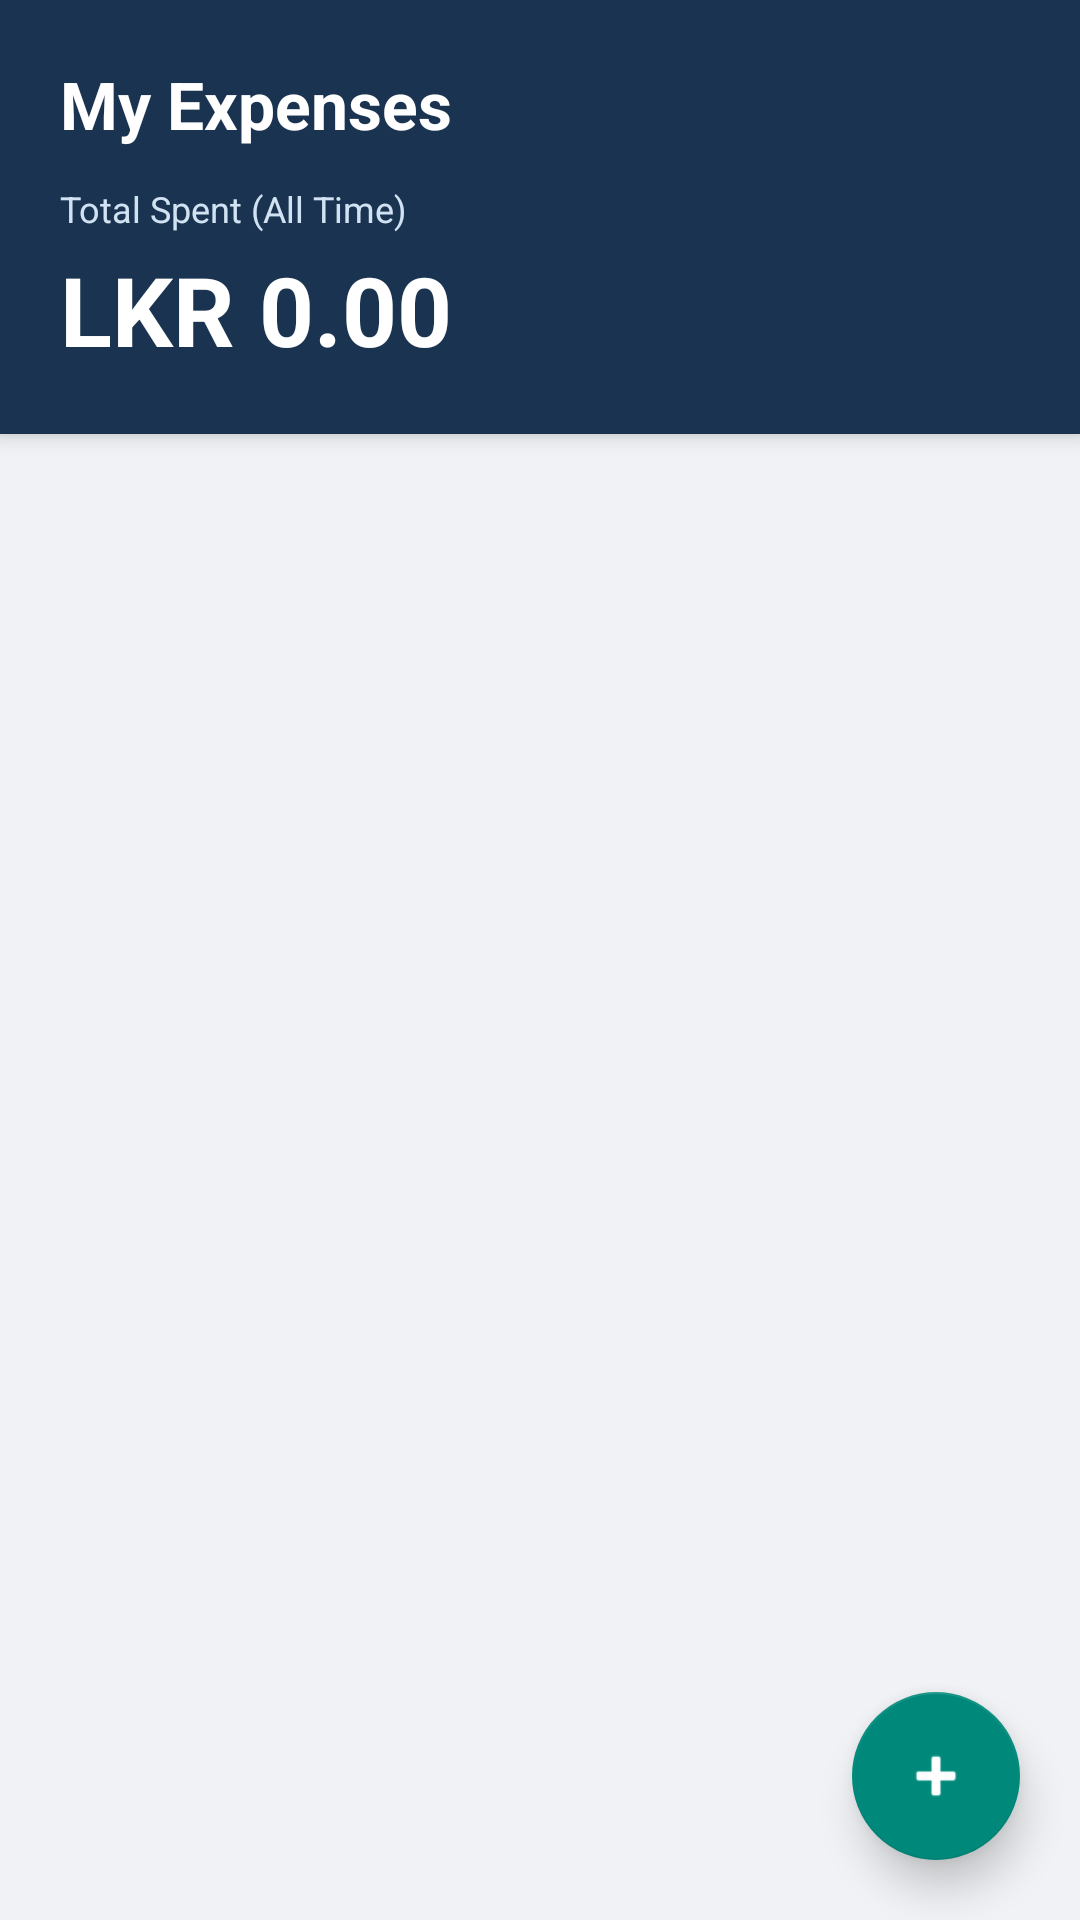

Named icons in this screenshot (1080x1920) and their bounding boxes, (x1, y1, x2, y2):
Add expense: (852, 1692, 1020, 1860)
